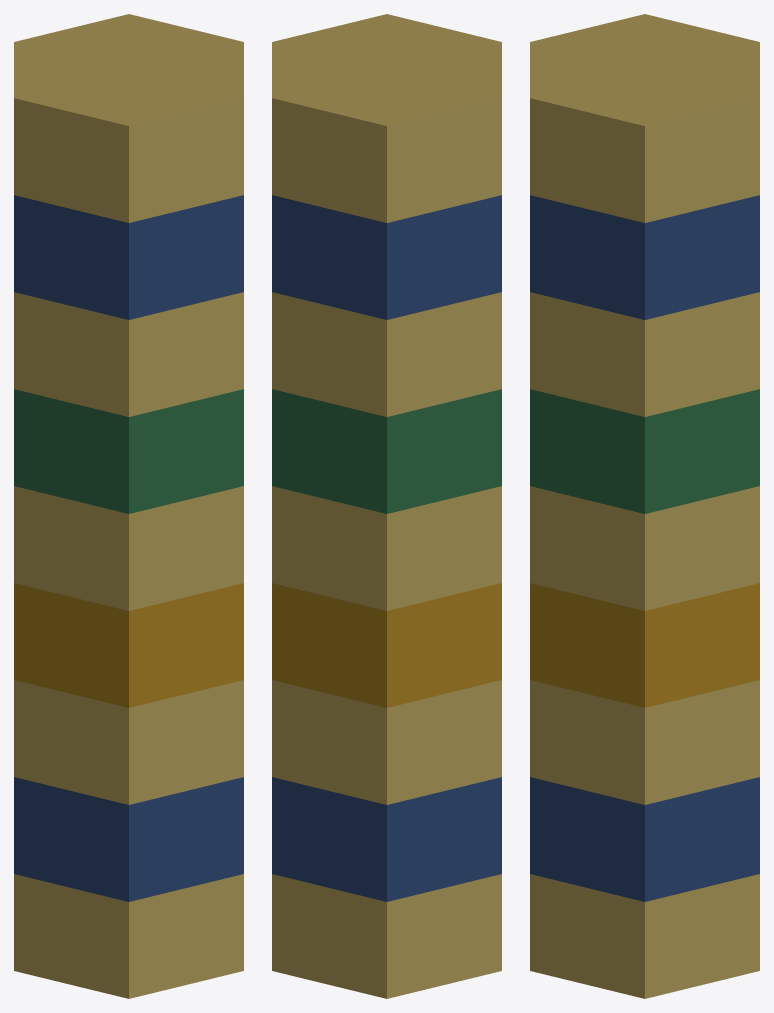
File: kente-throw-roll-22.glb
3 renders of one model, left to right at view 1: azimuth 30°, elevation 25°; view 2: azimuth 150°, elevation 25°; view 3: azimuth 270°, elevation 25°, orthographic.
Parts seen in each view (by area): view 1: kente_throw_roll_22; view 2: kente_throw_roll_22; view 3: kente_throw_roll_22.
Boxes of the visible parts, box(x1,y1,x2,y2) form: kente_throw_roll_22: box(14, 14, 243, 998); kente_throw_roll_22: box(272, 14, 501, 998); kente_throw_roll_22: box(530, 14, 759, 998).
Bounding box in the file's own units: 0.2062 × 0.748 × 0.1785.
